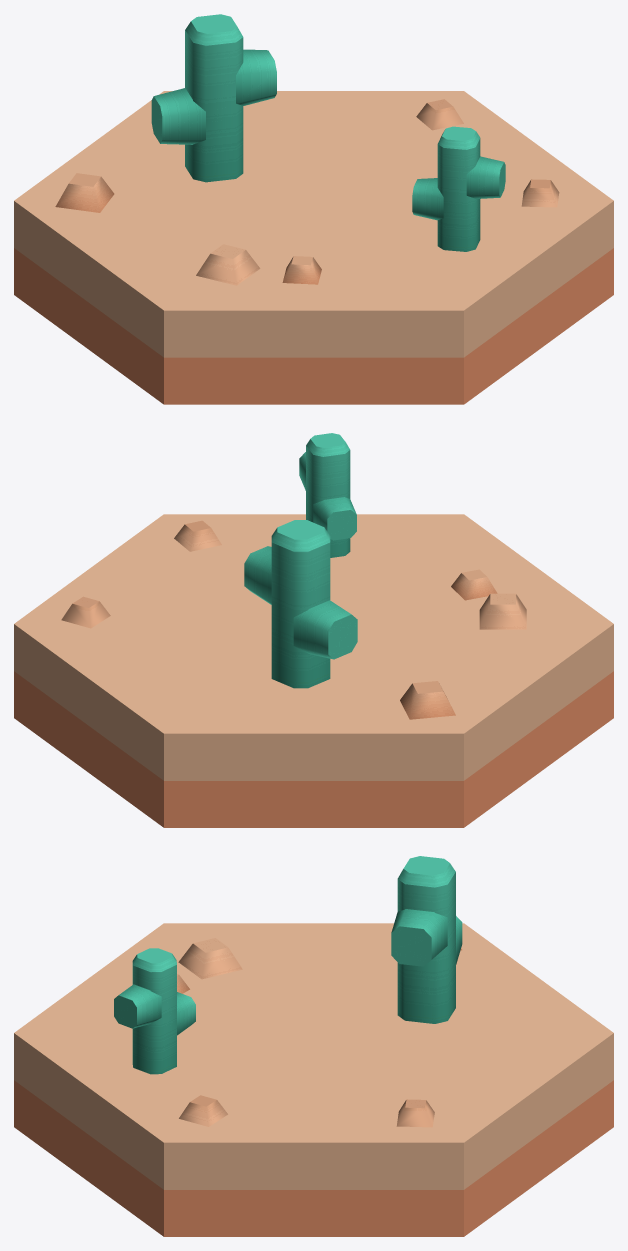
The model's file is sand_desert.glb.
3 renders of one model, top to bottom at view 1: azimuth 30°, elevation 25°; view 2: azimuth 150°, elevation 25°; view 3: azimuth 270°, elevation 25°, orthographic.
Visible parts, largest first — view 1: sand-desert; view 2: sand-desert; view 3: sand-desert.
Part boxes in pixels (<box>): sand-desert: <box>14,14,613,404</box>; sand-desert: <box>14,433,613,827</box>; sand-desert: <box>14,856,613,1236</box>.
Size of the model in its own units: 1 by 0.51 by 1.15.
1 material, 1 textured.
